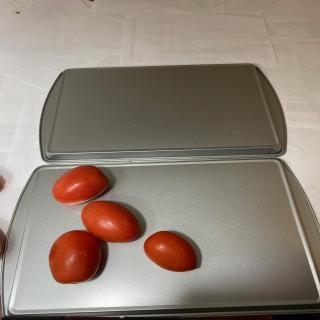Tomato: (48, 230, 102, 284), (80, 200, 140, 243), (52, 165, 109, 205), (144, 231, 198, 272)
